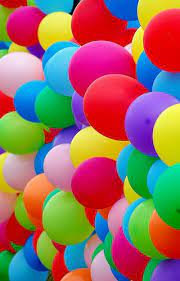Balloon: (83, 76, 134, 140), (70, 41, 134, 87), (70, 157, 124, 208), (42, 192, 93, 244), (71, 1, 127, 45), (144, 7, 180, 72), (1, 53, 42, 100), (1, 112, 46, 154), (152, 104, 180, 166), (155, 168, 180, 229), (36, 85, 72, 126), (7, 5, 42, 47), (10, 249, 43, 281), (38, 13, 72, 43), (23, 174, 47, 213), (46, 146, 69, 186)
